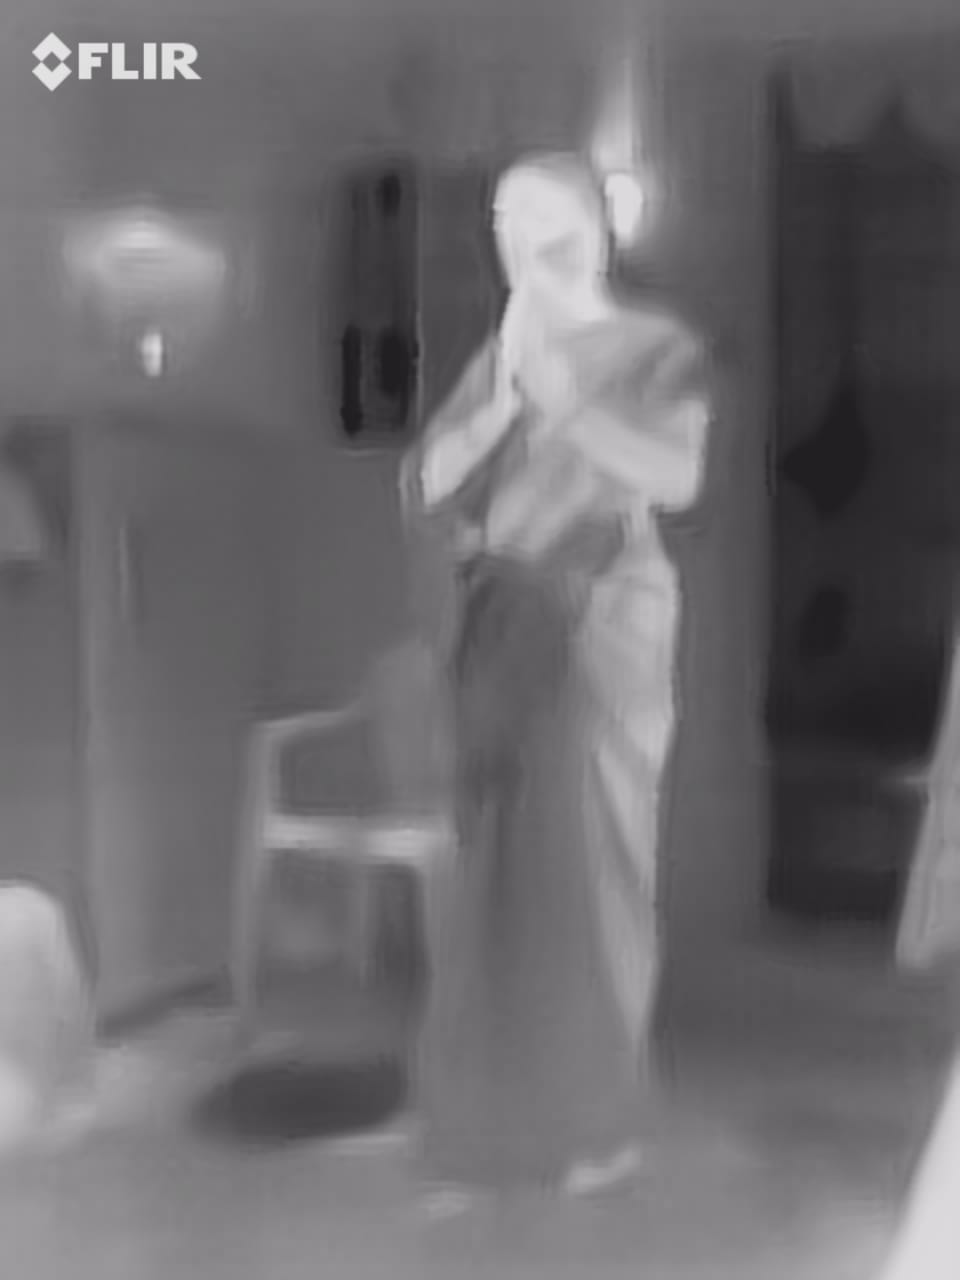head: (488, 156, 613, 302)
